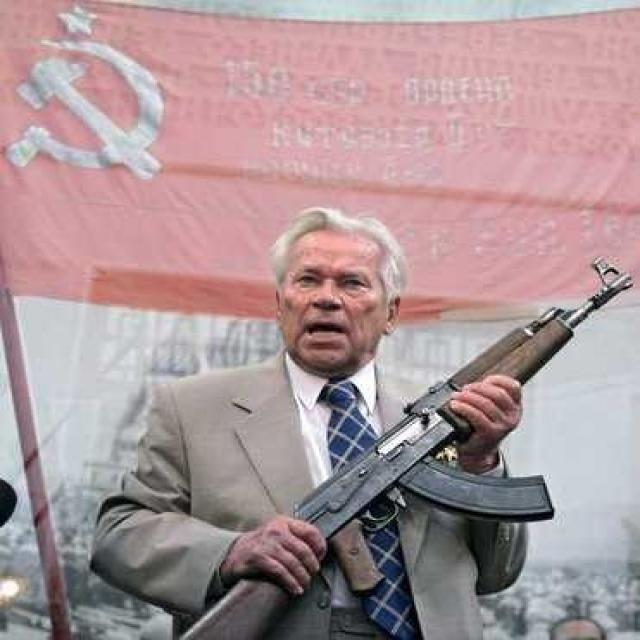heavyweapon: (121, 234, 632, 640)
